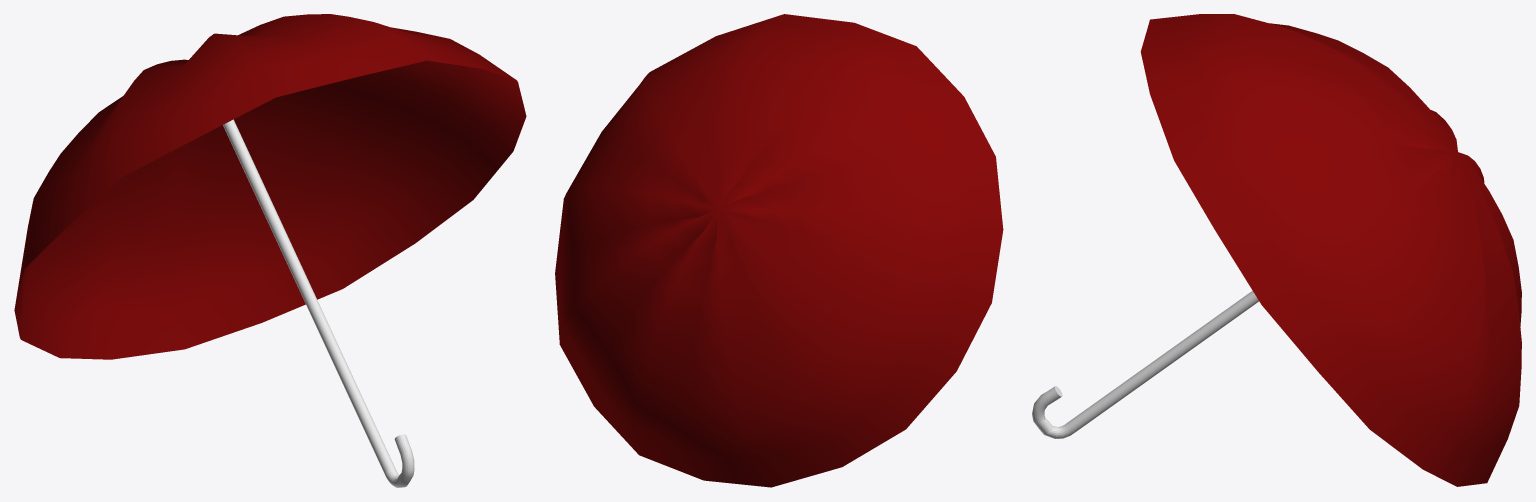
The model's file is san6.fbx.
The picture shows the model from 3 angles, left to right: view 1: azimuth 30°, elevation 25°; view 2: azimuth 150°, elevation 25°; view 3: azimuth 270°, elevation 25°; orthographic projection. The views are drawn at different scales.
Parts seen in each view (by area): view 1: pSphere3; view 2: pSphere3; view 3: pSphere3.
Boxes of the visible parts, bbox=[...] form: pSphere3: bbox=[14, 14, 526, 487]; pSphere3: bbox=[555, 14, 1003, 487]; pSphere3: bbox=[1032, 14, 1521, 486].
Size of the model in its own units: 0.1404 by 0.1109 by 0.1199.
